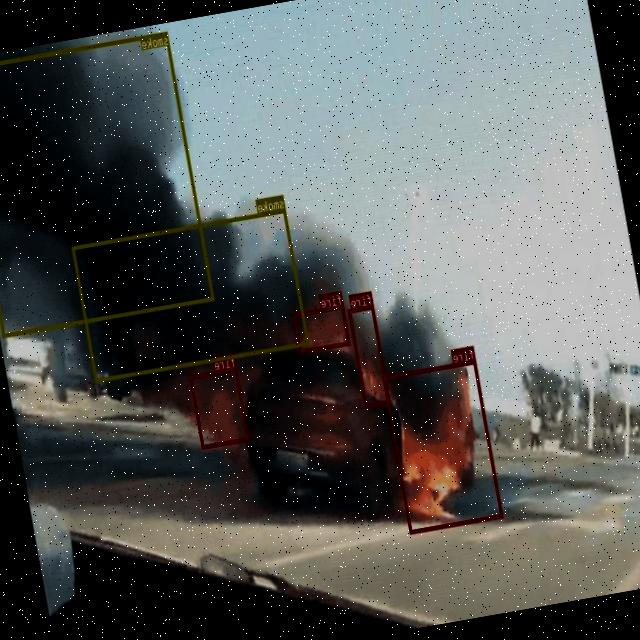fire: (382, 358, 504, 533), (190, 367, 250, 448), (348, 304, 391, 406), (293, 304, 350, 352)
smoke: (0, 30, 214, 335), (72, 207, 310, 381)
